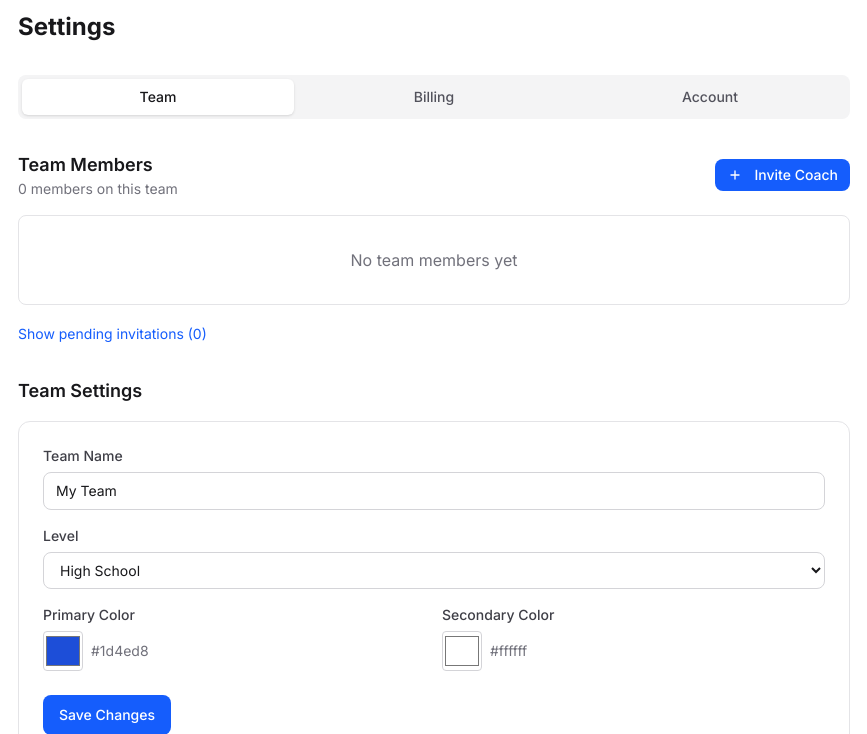
SettingsPage › switches to Billing section when clicking Billing tab
Click the button "Billing".
click(434, 97)  # box [298, 79, 570, 115]
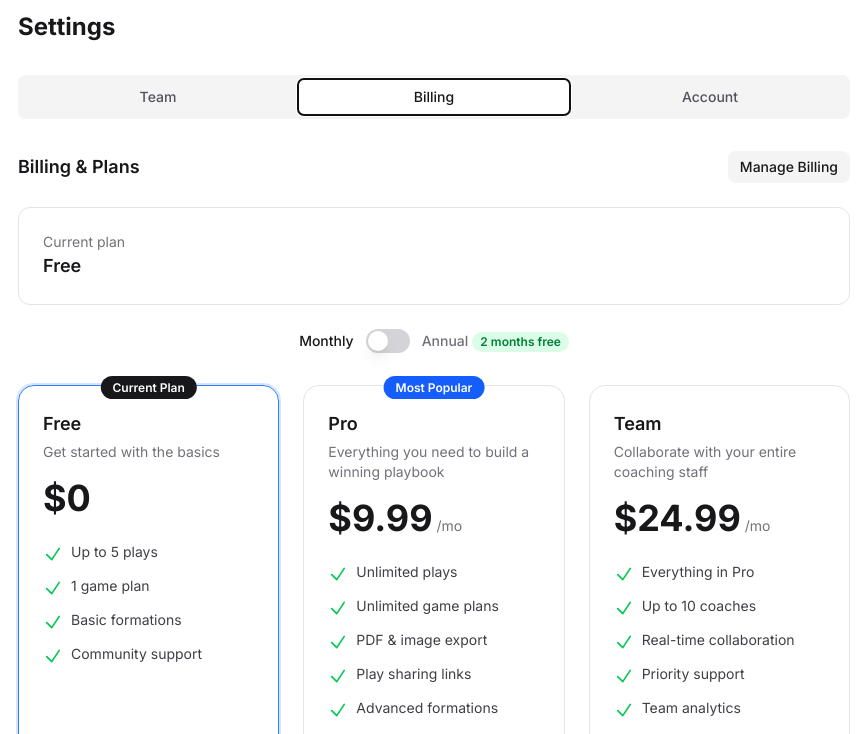
Now the heading "Billing & Plans" is shown, box [18, 153, 140, 181]
